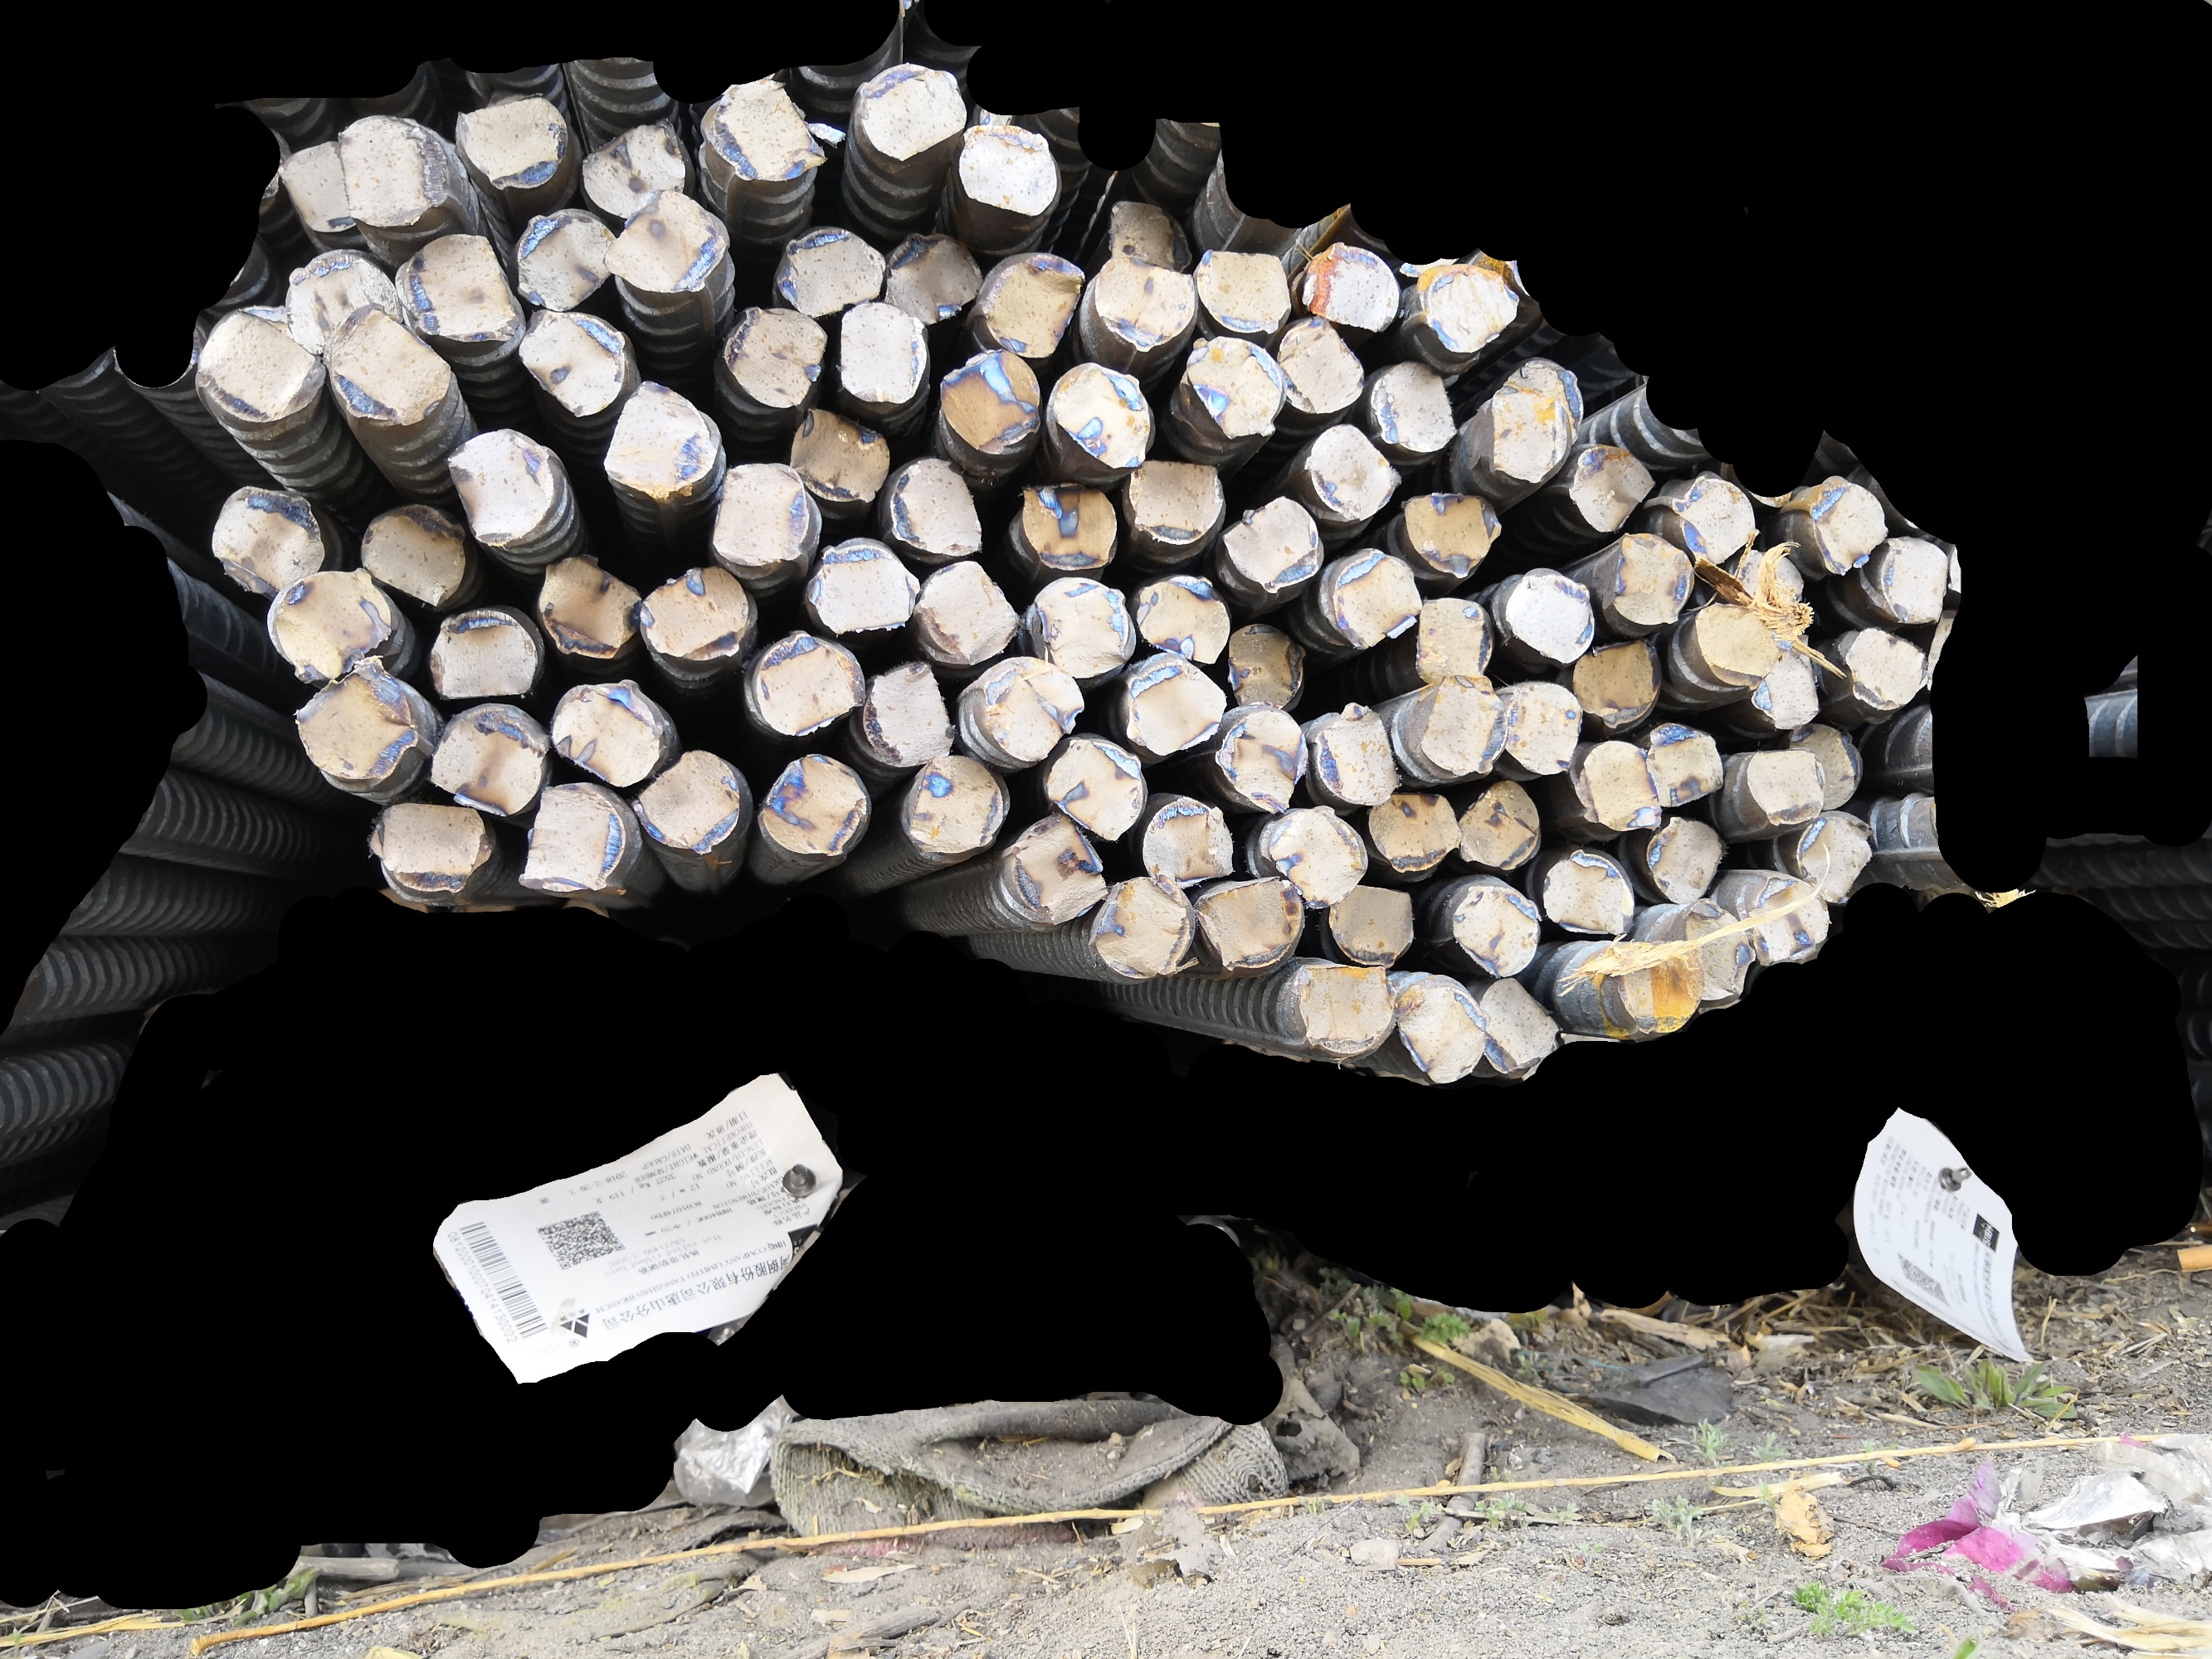rebar: (310, 298, 455, 430), (190, 296, 333, 422), (289, 652, 422, 786), (260, 565, 397, 685), (593, 183, 734, 298), (385, 230, 519, 349), (439, 423, 560, 552), (425, 699, 551, 821), (502, 303, 629, 420), (598, 376, 715, 500), (277, 247, 406, 359), (546, 678, 668, 793), (624, 742, 746, 857), (357, 498, 478, 613), (204, 479, 326, 592), (708, 75, 831, 186), (512, 781, 629, 897), (757, 742, 872, 861), (974, 652, 1089, 769), (746, 626, 870, 734), (934, 343, 1046, 462), (331, 112, 441, 232), (981, 239, 1088, 362), (1001, 812, 1112, 929), (1252, 803, 1370, 913), (572, 117, 694, 223), (706, 450, 812, 572), (802, 533, 924, 640), (913, 554, 1025, 669), (1041, 732, 1154, 843), (1021, 575, 1137, 685), (1089, 868, 1199, 983), (361, 798, 486, 897), (530, 552, 643, 662), (638, 559, 757, 664), (420, 603, 540, 706), (770, 218, 892, 319), (722, 298, 830, 411), (1051, 357, 1154, 476), (1189, 873, 1309, 974), (509, 206, 621, 314), (1384, 974, 1492, 1086), (1089, 247, 1203, 354), (1182, 328, 1288, 441), (450, 92, 572, 190), (1288, 953, 1400, 1060), (859, 653, 960, 770), (783, 403, 892, 509), (899, 756, 1011, 859), (1133, 788, 1239, 894), (1121, 652, 1229, 756), (856, 61, 966, 164), (1304, 415, 1407, 525), (955, 117, 1062, 221), (1295, 232, 1403, 335), (1126, 566, 1232, 669), (1218, 491, 1325, 594), (1119, 450, 1227, 551), (1011, 477, 1123, 575), (1213, 706, 1311, 817), (835, 295, 927, 411), (1189, 239, 1295, 340), (879, 228, 981, 331), (1419, 256, 1523, 357), (1501, 559, 1600, 666), (1398, 484, 1506, 582), (1607, 938, 1708, 1040), (889, 453, 985, 561), (1686, 592, 1788, 692), (1447, 875, 1543, 981), (1417, 669, 1511, 777), (1272, 310, 1367, 416), (1572, 732, 1663, 842), (1314, 701, 1403, 812), (1605, 526, 1700, 631), (1832, 619, 1937, 713), (1680, 892, 1761, 1014), (1365, 359, 1464, 457), (1537, 843, 1637, 941), (1330, 549, 1426, 650), (1468, 974, 1564, 1075), (1738, 873, 1837, 969), (1485, 383, 1574, 490), (1450, 777, 1546, 875), (1361, 788, 1466, 877), (1567, 638, 1665, 732), (1804, 476, 1891, 580), (1564, 441, 1659, 535), (1792, 807, 1879, 910), (1499, 345, 1590, 443), (1673, 471, 1762, 570), (1412, 589, 1499, 690), (1327, 878, 1419, 972), (1499, 678, 1584, 779), (1224, 619, 1313, 714), (1642, 810, 1727, 910), (1644, 714, 1729, 812), (275, 138, 359, 237), (1872, 526, 1952, 629), (1738, 742, 1834, 828), (1105, 192, 1198, 277), (1787, 720, 1867, 816), (1750, 640, 1825, 734), (1724, 544, 1813, 617), (741, 369, 744, 390)
